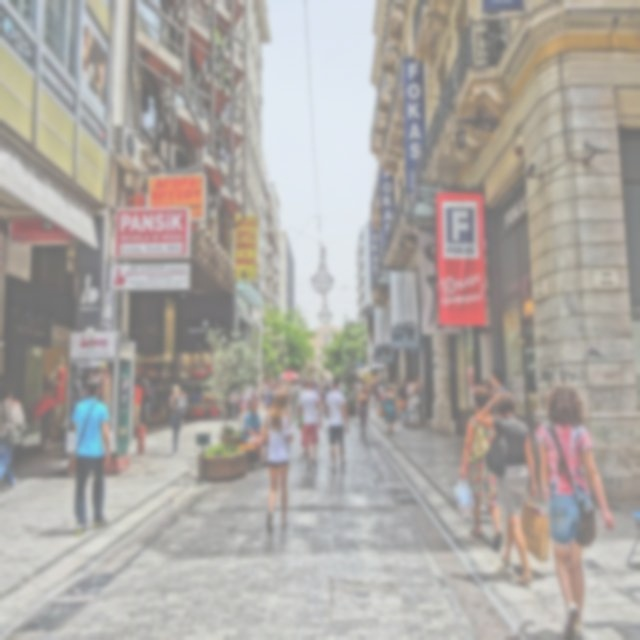pessoa: (531, 381, 618, 638), (473, 388, 541, 588), (63, 377, 112, 539), (458, 384, 504, 551), (260, 387, 295, 537), (0, 379, 29, 502), (79, 20, 111, 111), (295, 374, 323, 474), (322, 374, 350, 474), (241, 393, 272, 471), (423, 238, 447, 314), (47, 348, 67, 436), (167, 381, 184, 459), (376, 382, 397, 438), (404, 372, 422, 429), (488, 366, 508, 416), (225, 384, 244, 422), (259, 374, 305, 389), (175, 386, 188, 438), (99, 361, 113, 408), (132, 374, 144, 426), (357, 386, 370, 434), (139, 378, 152, 422), (70, 362, 85, 400), (286, 389, 300, 424), (416, 368, 424, 424), (312, 373, 332, 392), (119, 374, 129, 410), (370, 392, 384, 417), (243, 376, 252, 411), (260, 388, 273, 411), (392, 377, 399, 419), (370, 375, 386, 393), (319, 391, 326, 428), (85, 361, 99, 379), (478, 376, 492, 394), (400, 376, 410, 398), (348, 378, 361, 394), (140, 372, 151, 388), (338, 378, 348, 394), (252, 374, 260, 392)
